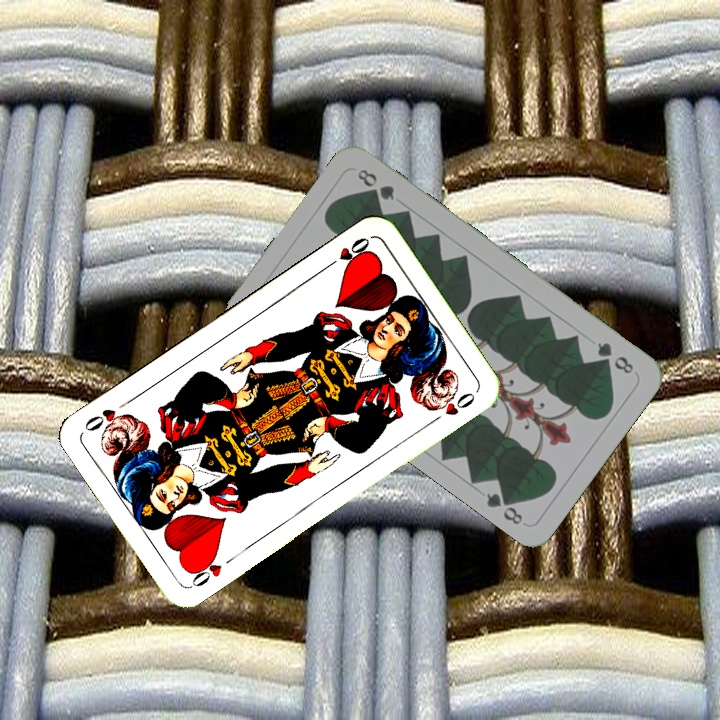G8: (593, 338, 637, 377)
HO: (321, 233, 373, 272), (185, 549, 225, 591)
